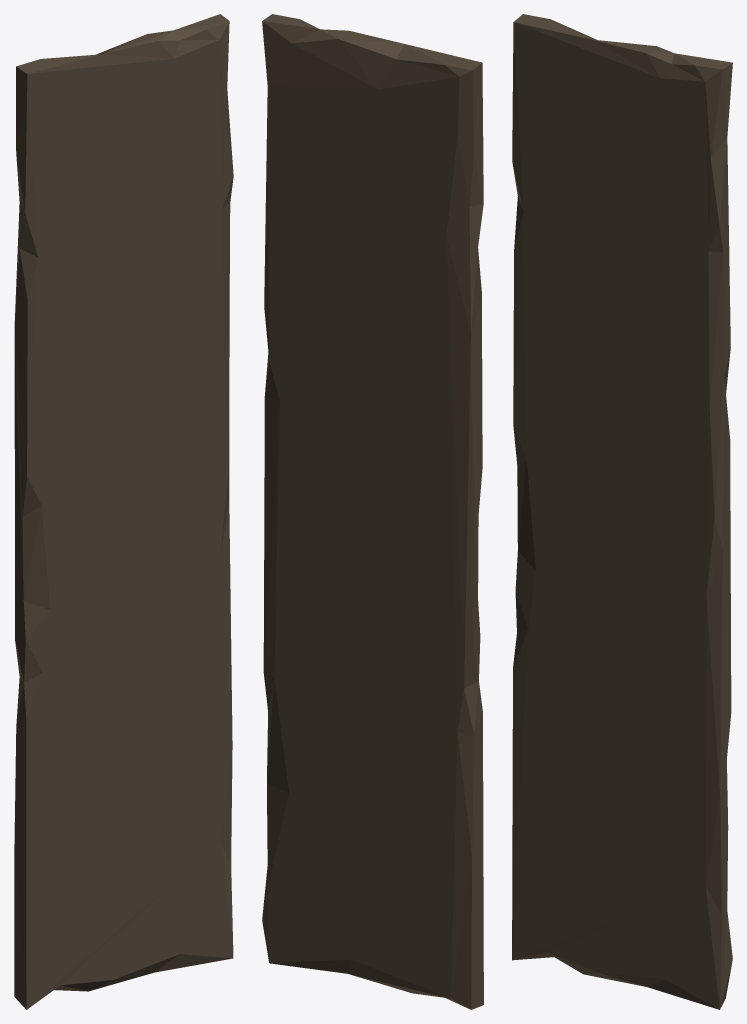
File: SM_wooden_rod_02.fbx
3 renders of one model, left to right at view 1: azimuth 30°, elevation 25°; view 2: azimuth 150°, elevation 25°; view 3: azimuth 330°, elevation 25°, orthographic.
Parts seen in each view (by area): view 1: wooden_rod_02; view 2: wooden_rod_02; view 3: wooden_rod_02.
Part boxes in pixels (x1=…): wooden_rod_02: x1=14, y1=14, x2=233, y2=1009; wooden_rod_02: x1=262, y1=14, x2=483, y2=1009; wooden_rod_02: x1=512, y1=14, x2=732, y2=1009.
Size of the model in its own units: 49.25 by 212 by 5.58.
